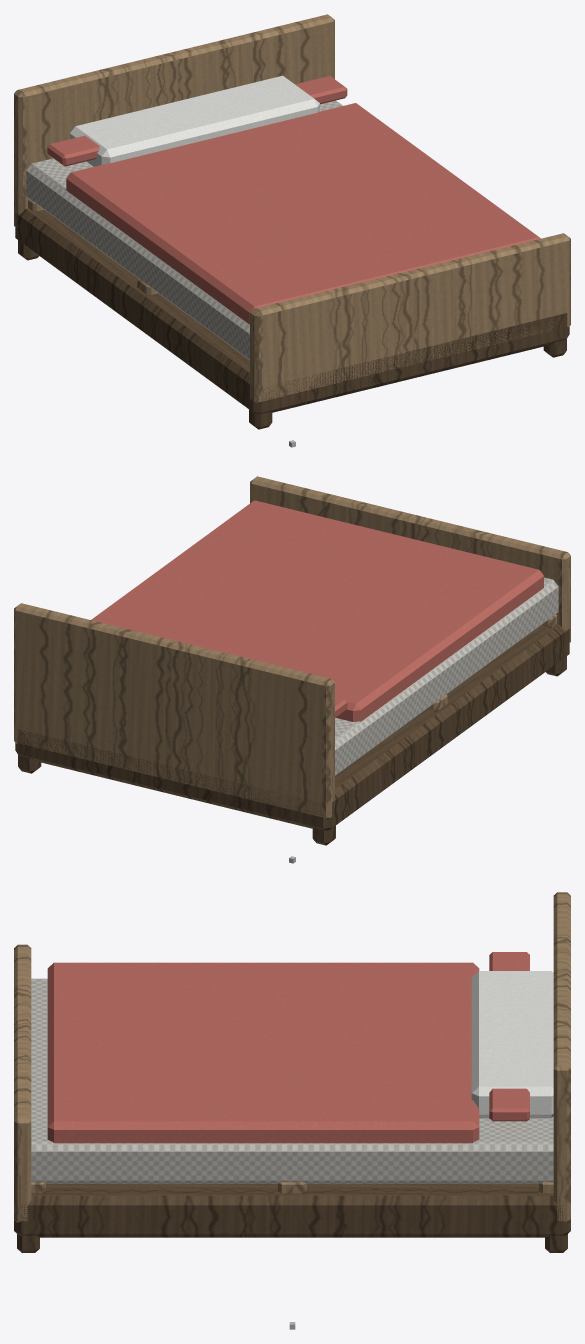
File: rv_furn_bed_double.gltf
3 views of the same model, one above another, from view 1: azimuth 30°, elevation 25°; view 2: azimuth 150°, elevation 25°; view 3: azimuth 270°, elevation 25° (orthographic). The views are drawn at different scales.
Visible parts, largest first — view 1: RV_Furn_BedDouble; view 2: RV_Furn_BedDouble; view 3: RV_Furn_BedDouble.
Part boxes in pixels (left/top/right/bottom): RV_Furn_BedDouble: left=14, top=14, right=570, bottom=447; RV_Furn_BedDouble: left=14, top=476, right=570, bottom=863; RV_Furn_BedDouble: left=14, top=892, right=570, bottom=1329.
Bounding box in the file's own units: 1.44 × 1.33 × 1.92.
Materials: 6 (5 with a texture image).
